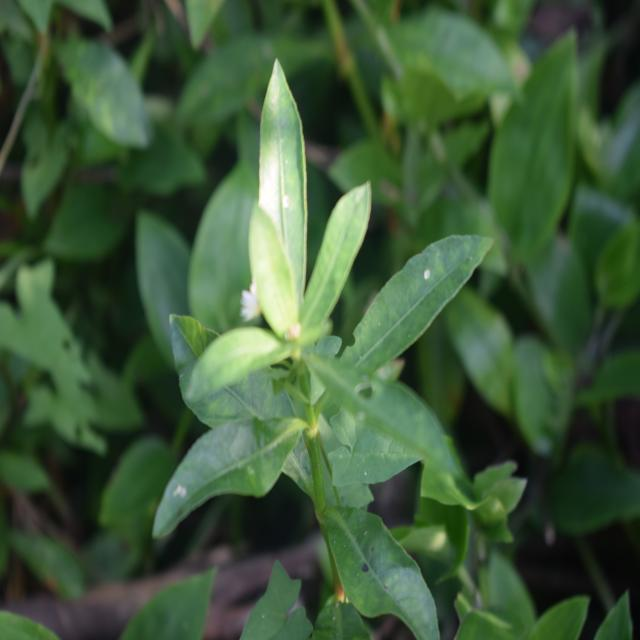Alligatorweed: (171, 107, 433, 568)
